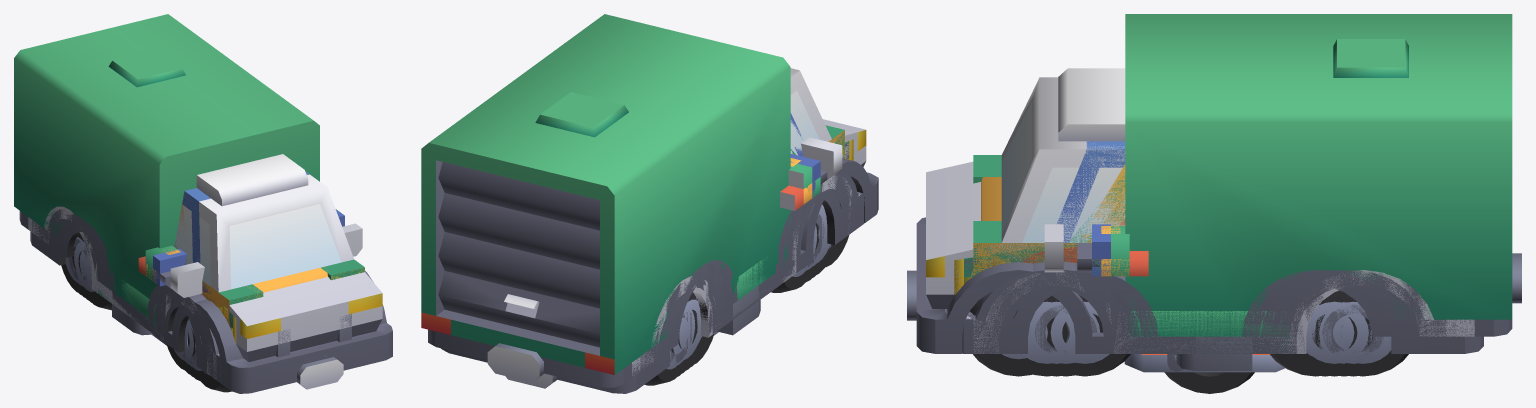
The model's file is vehicles.glb.
The picture shows the model from 3 angles, left to right: view 1: azimuth 30°, elevation 25°; view 2: azimuth 150°, elevation 25°; view 3: azimuth 270°, elevation 25°; orthographic projection. The views are drawn at different scales.
Visible parts, largest first — view 1: body (×9), grill, debris-bumper, wheel-back-right; view 2: body (×9), door, debris-bumper, wheel-back-right; view 3: body (×9), wheel-back-left (×9), wheel-front-left (×7), debris-bumper, debris-plate-a, debris-tire.
Part boxes in pixels (<box>): body (×9): <box>14,14,392,393</box>; grill: <box>255,313,370,361</box>; debris-bumper: <box>112,291,166,344</box>; wheel-back-right: <box>63,237,88,293</box>; body (×9): <box>421,14,878,393</box>; door: <box>438,162,599,347</box>; debris-bumper: <box>717,286,760,335</box>; wheel-back-right: <box>673,299,700,359</box>; body (×9): <box>907,14,1521,353</box>; wheel-back-left (×9): <box>1270,290,1408,376</box>; wheel-front-left (×7): <box>970,295,1130,376</box>; debris-bumper: <box>1167,336,1252,372</box>; debris-plate-a: <box>1124,354,1285,372</box>; debris-tire: <box>1164,372,1254,393</box>.
Bounding box in the file's own units: 1.5 × 1.95 × 3.25.
Materials: 1 (1 with a texture image).
